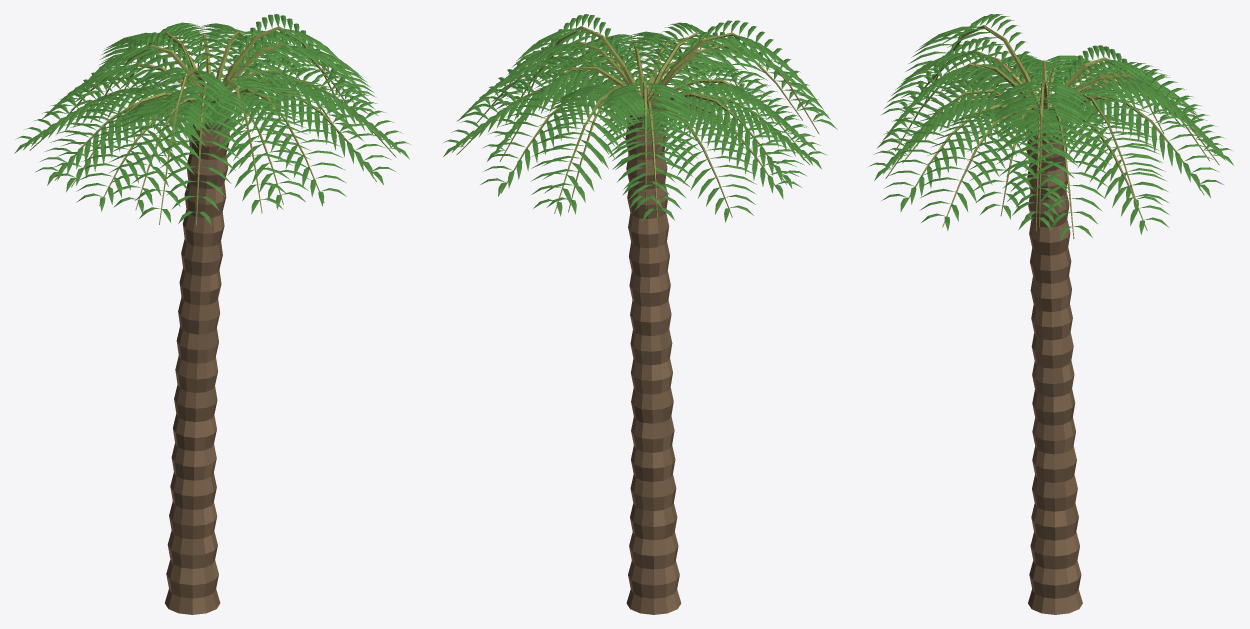
File: date_palm_lod0.glb
3 views of the same model, side by side, from view 1: azimuth 30°, elevation 25°; view 2: azimuth 150°, elevation 25°; view 3: azimuth 270°, elevation 25° (orthographic).
Parts seen in each view (by area): view 1: date_palm; view 2: date_palm; view 3: date_palm.
Boxes of the visible parts, x1,y1,x2,y2 form: date_palm: [14, 14, 410, 614]; date_palm: [443, 14, 837, 614]; date_palm: [868, 14, 1233, 614].
Size of the model in its own units: 4.75 by 7.66 by 4.58.
